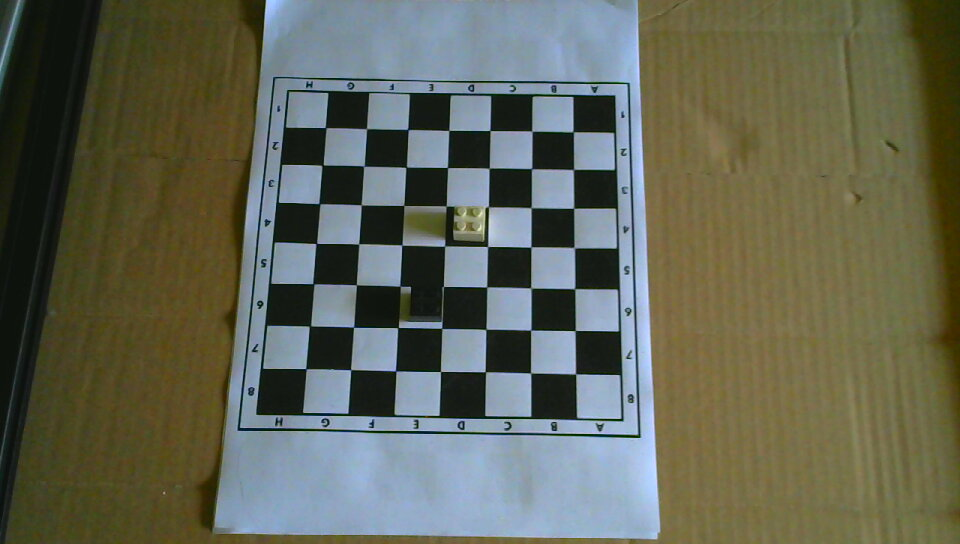bp: (406, 280, 444, 324)
wp: (450, 202, 487, 244)
